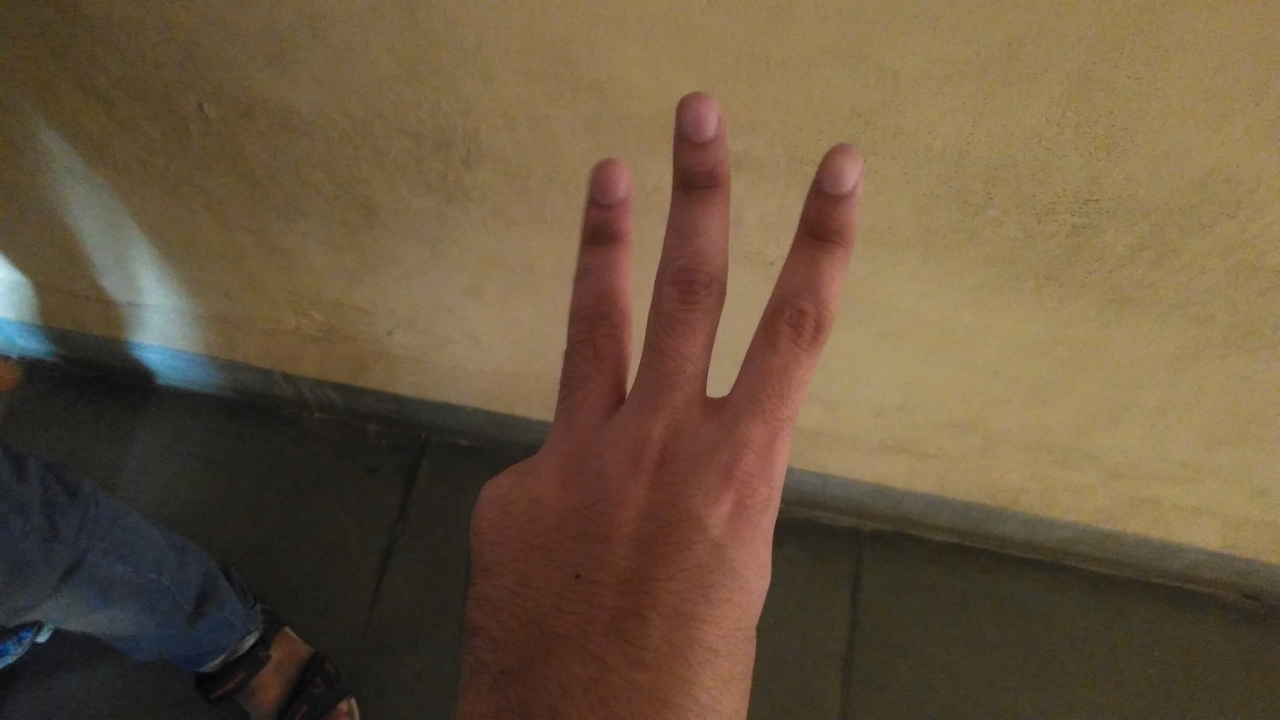fingertip: (810, 140, 874, 196), (672, 90, 732, 146), (584, 152, 640, 206)
